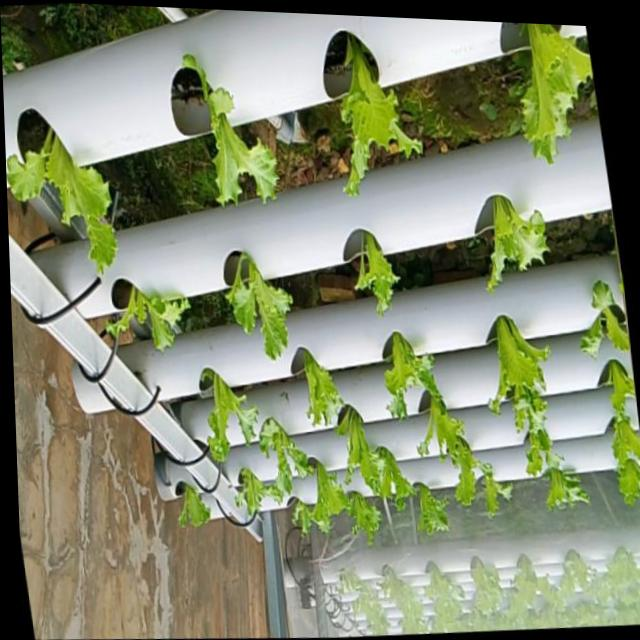Baby: (6, 132, 116, 277), (182, 59, 277, 209), (341, 37, 423, 199), (521, 23, 593, 165), (225, 258, 292, 365), (416, 392, 490, 485), (333, 406, 397, 500), (487, 198, 547, 295), (102, 293, 189, 358), (200, 372, 257, 466), (396, 457, 456, 543), (257, 419, 312, 503), (495, 316, 544, 401), (291, 463, 347, 537), (504, 368, 549, 457), (579, 281, 628, 359), (355, 236, 398, 319), (298, 351, 343, 429), (384, 334, 421, 419), (233, 470, 281, 524), (610, 415, 640, 497), (475, 462, 512, 518), (545, 468, 588, 511), (346, 492, 380, 546), (177, 491, 209, 533)
